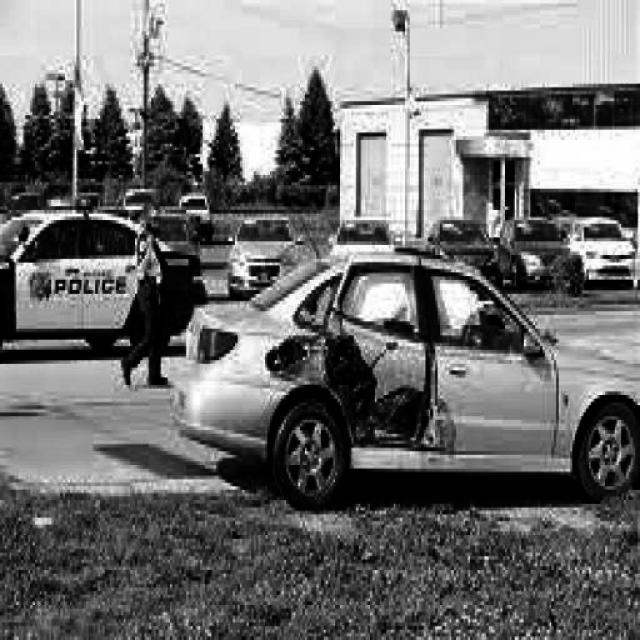car damage: (267, 286, 457, 468)
